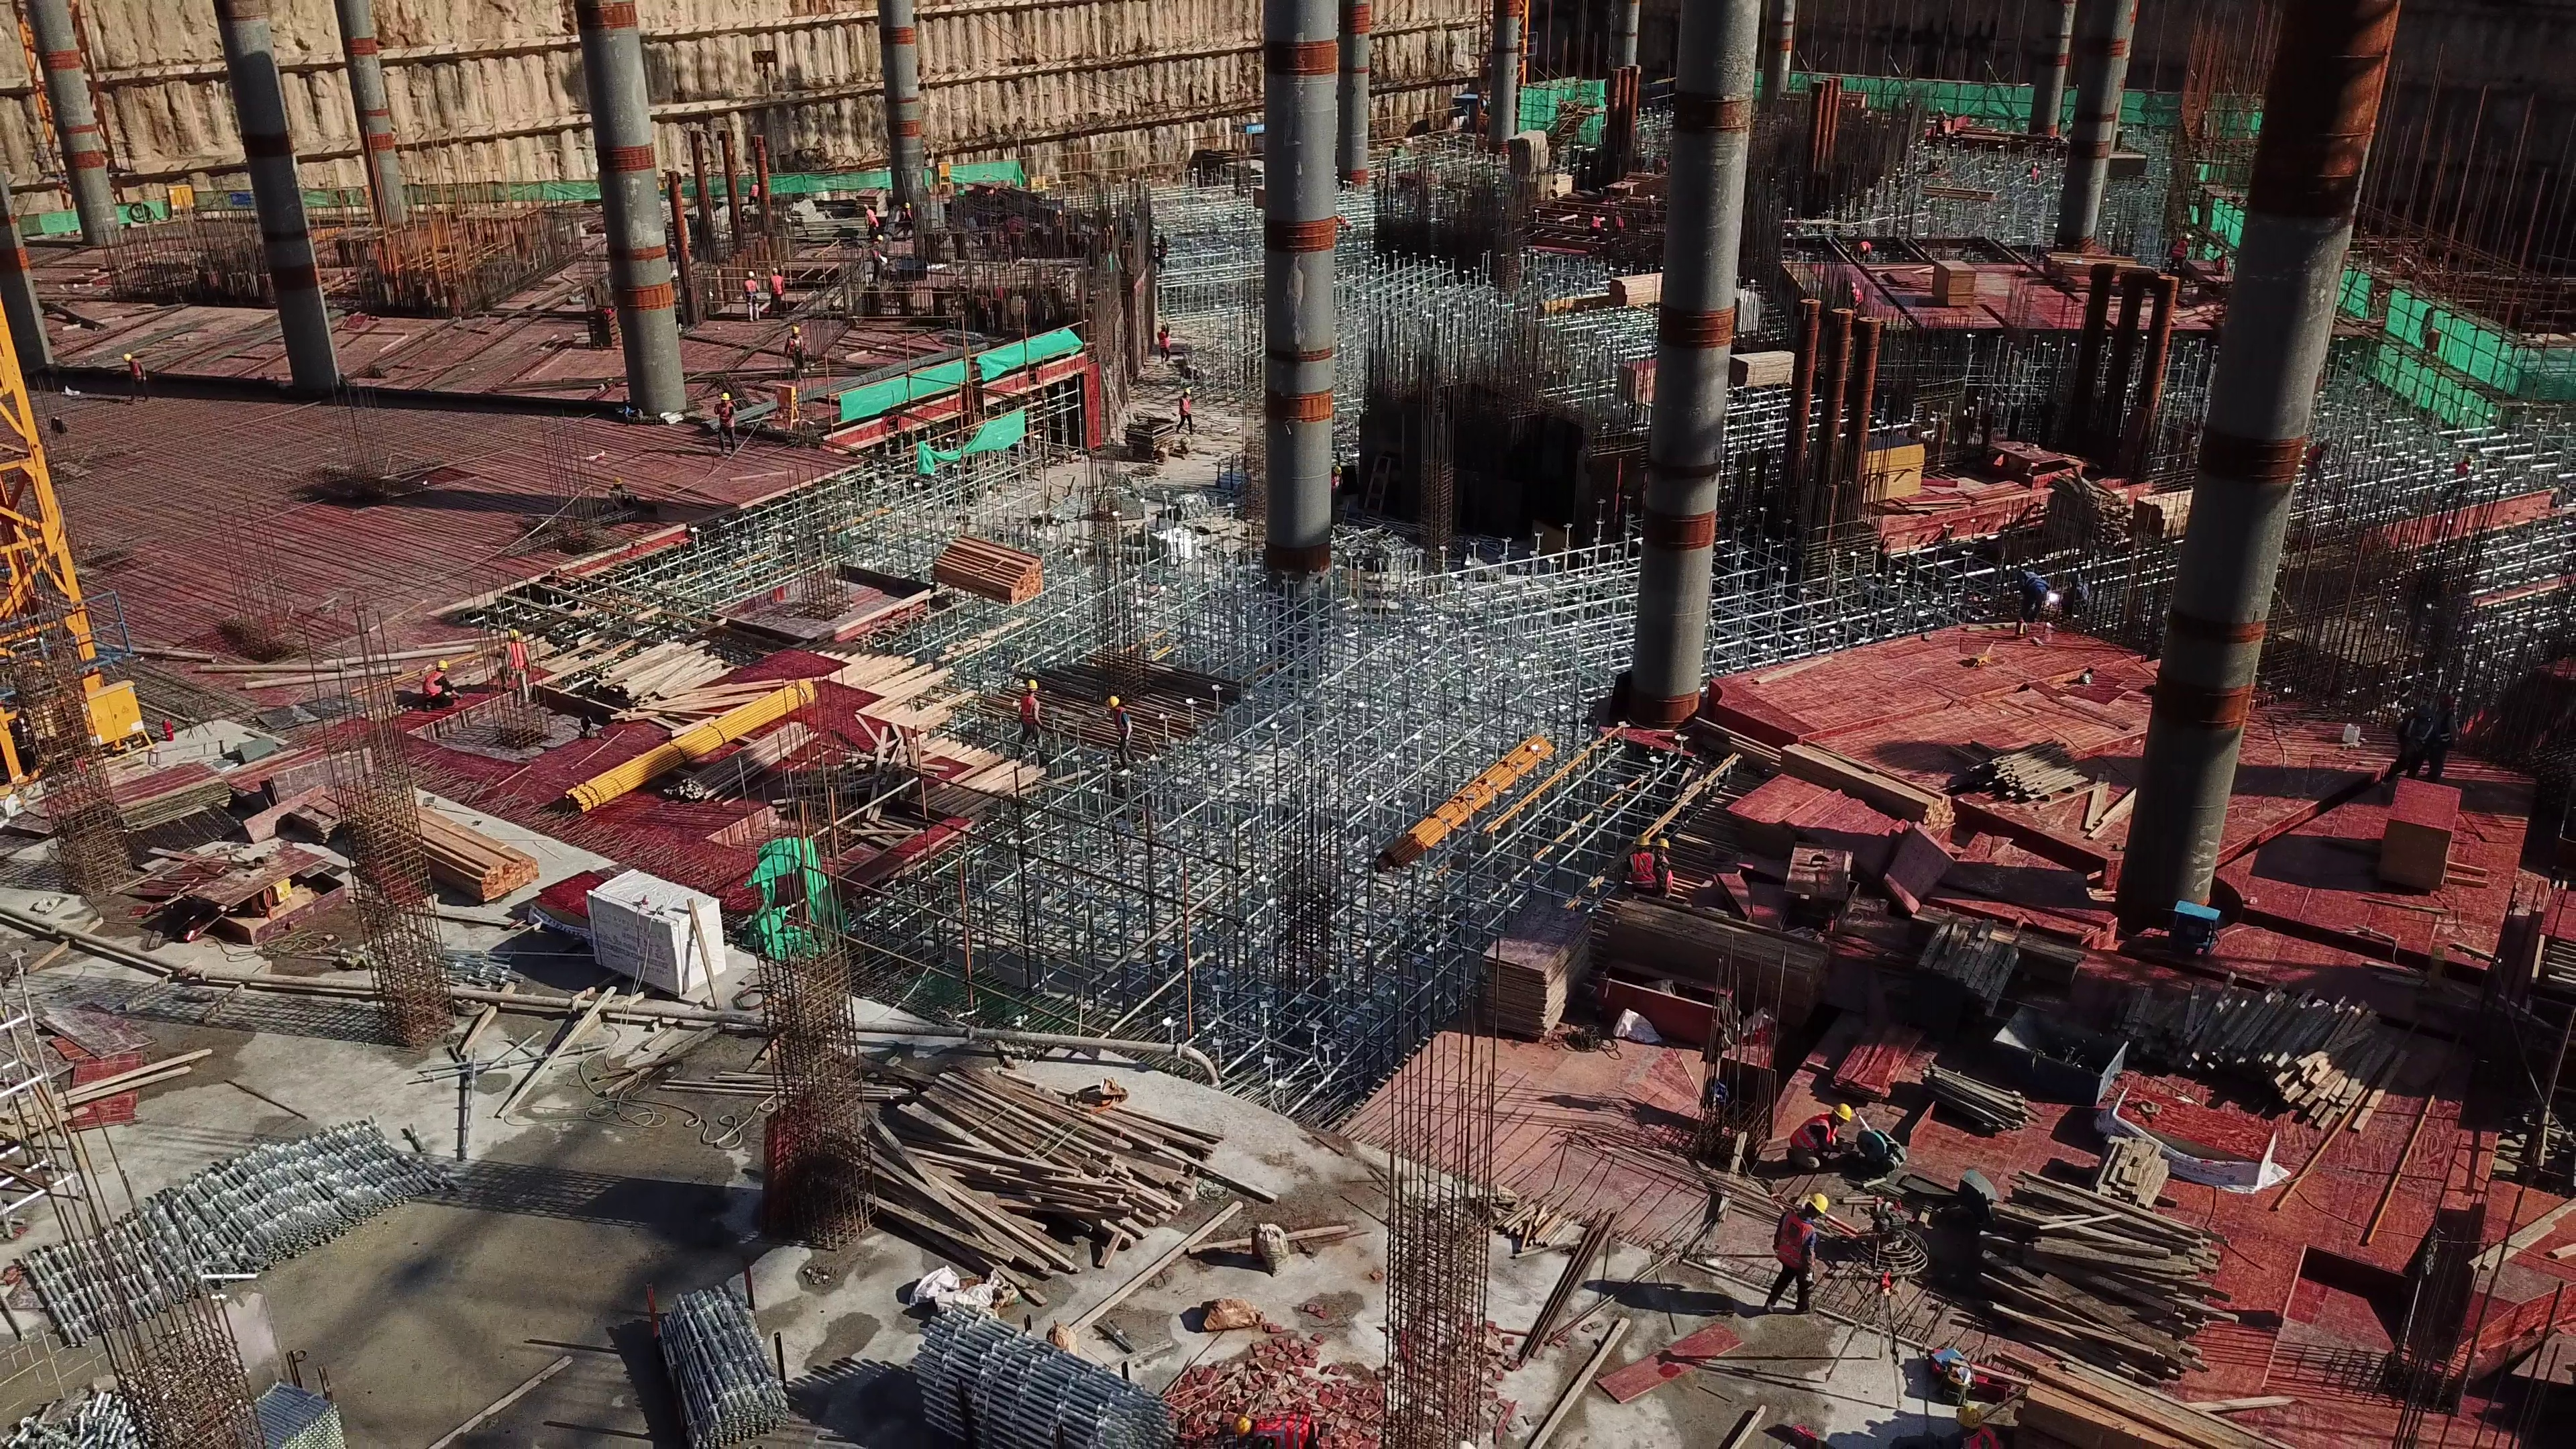helmet: (1951, 1400, 1984, 1428), (1808, 1187, 1837, 1217), (1831, 1099, 1853, 1124), (1230, 1414, 1254, 1436), (1656, 836, 1674, 851), (1631, 835, 1652, 847), (1106, 696, 1120, 706), (435, 660, 451, 669), (719, 392, 729, 402), (611, 478, 625, 487), (1024, 679, 1036, 688), (505, 629, 519, 637), (122, 354, 132, 362)
person: (1767, 1195, 1817, 1334), (1782, 1101, 1845, 1179), (2396, 701, 2428, 784), (503, 629, 532, 710), (2432, 691, 2455, 782), (419, 664, 461, 716), (1015, 680, 1042, 756), (1102, 697, 1132, 763), (1627, 837, 1656, 902), (2016, 570, 2047, 626), (712, 394, 739, 457), (1653, 839, 1676, 900), (123, 353, 147, 405), (782, 326, 804, 381), (2062, 570, 2086, 619), (740, 270, 759, 324), (2166, 231, 2188, 275), (767, 268, 786, 316), (1177, 389, 1194, 436), (859, 204, 879, 239), (871, 235, 883, 283), (899, 205, 918, 233), (2025, 160, 2043, 191), (1157, 325, 1171, 363), (611, 478, 627, 509), (1155, 233, 1168, 271), (745, 180, 761, 207), (2211, 251, 2225, 277), (1611, 209, 1624, 235), (1856, 237, 1871, 262), (1586, 213, 1602, 236), (1936, 107, 1945, 136)
vest: (1776, 1212, 1811, 1275), (1786, 1112, 1832, 1156), (1257, 1414, 1313, 1445), (1631, 853, 1655, 889), (419, 674, 449, 698), (506, 642, 528, 672), (717, 406, 737, 430), (1019, 698, 1035, 722), (129, 363, 144, 380)
